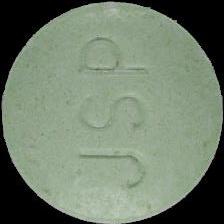51138-043: (0, 0, 224, 224)
